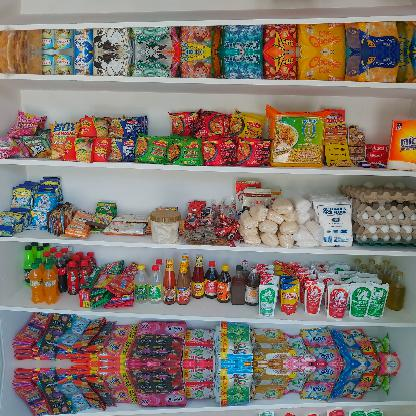Lady-s-Choice: (150, 210, 180, 244)
